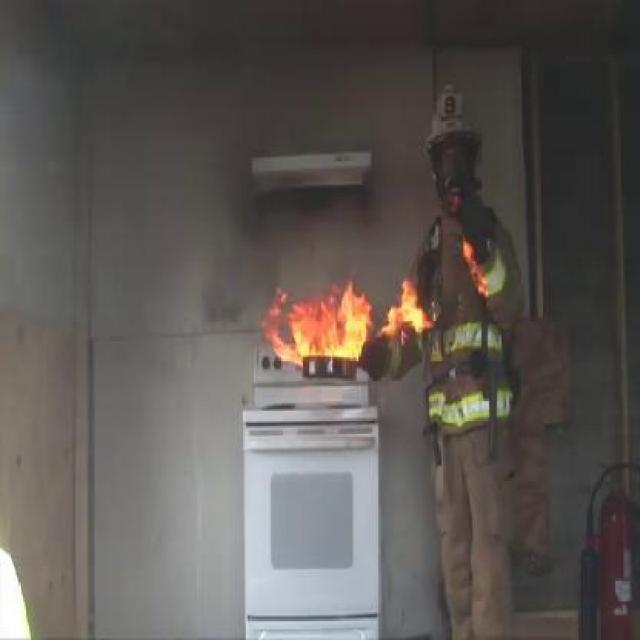fire: (259, 264, 367, 354), (383, 273, 426, 336)
